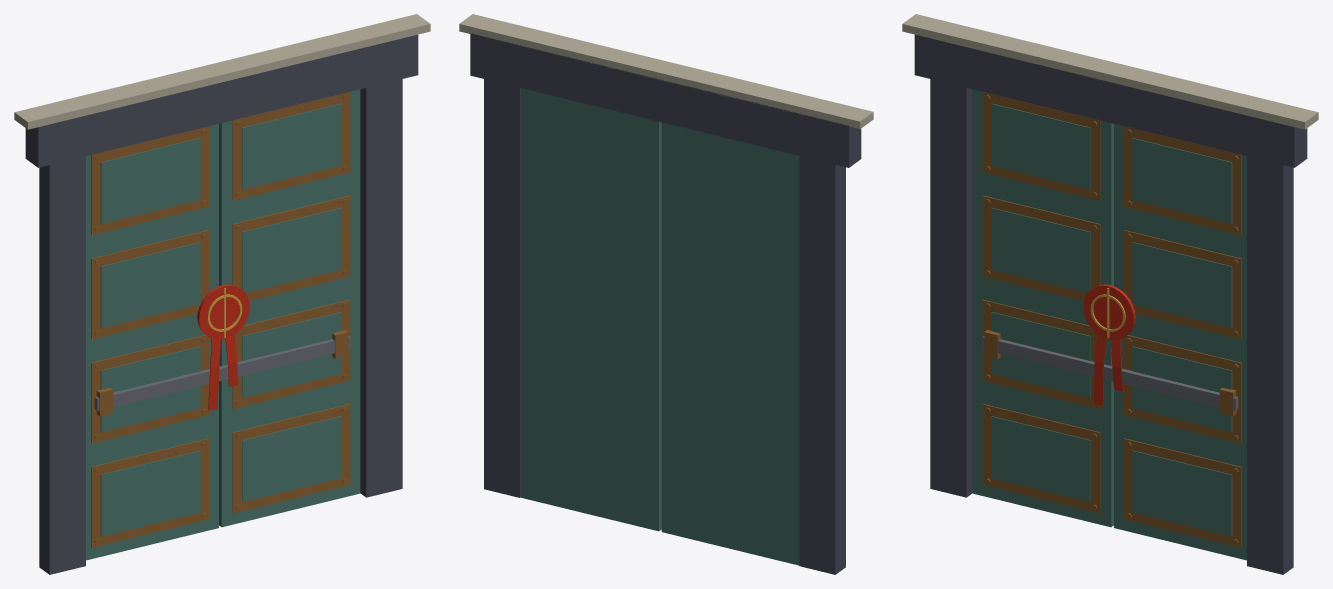
File: door.glb
3 renders of one model, left to right at view 1: azimuth 30°, elevation 25°; view 2: azimuth 150°, elevation 25°; view 3: azimuth 330°, elevation 25°, orthographic.
Visible parts, largest first — view 1: Door; view 2: Door; view 3: Door.
Part boxes in pixels (x1,y1,x2,y2): Door: (14, 14, 430, 574); Door: (459, 14, 873, 574); Door: (902, 14, 1318, 574).
Bounding box in the file's own units: 8.9 × 9.74 × 0.52.
